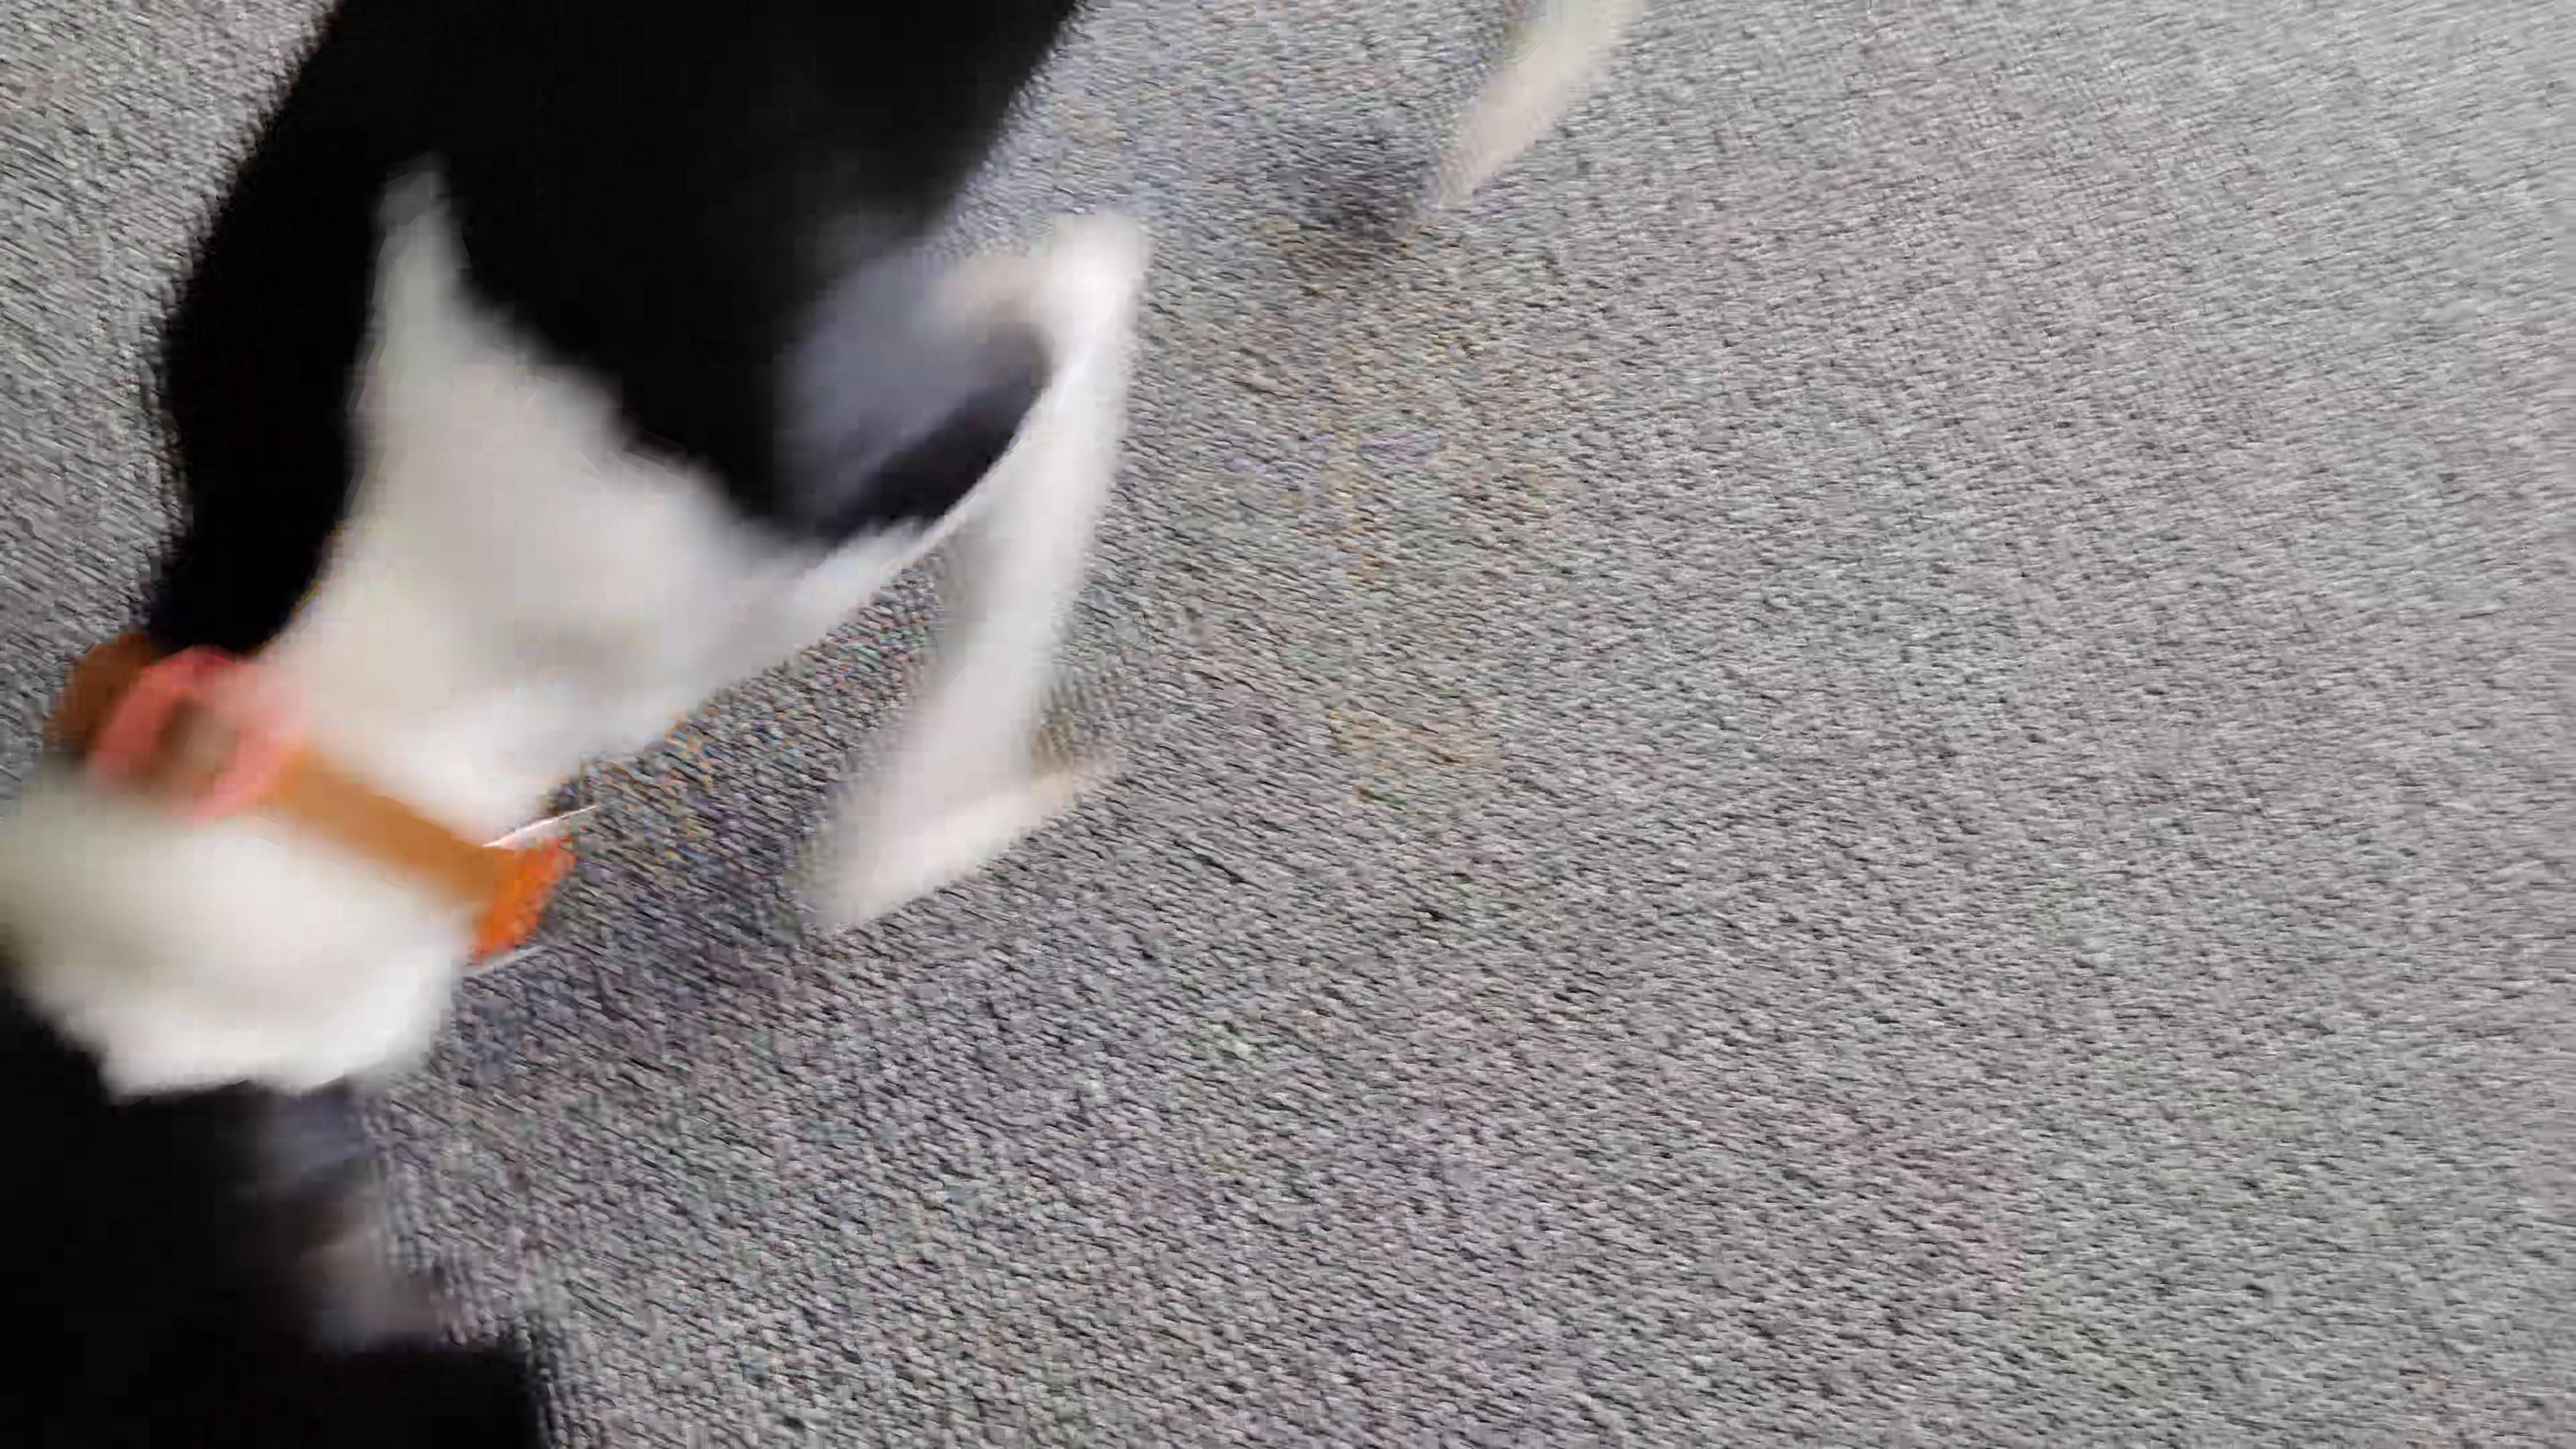Dog: (0, 0, 1660, 1449)
